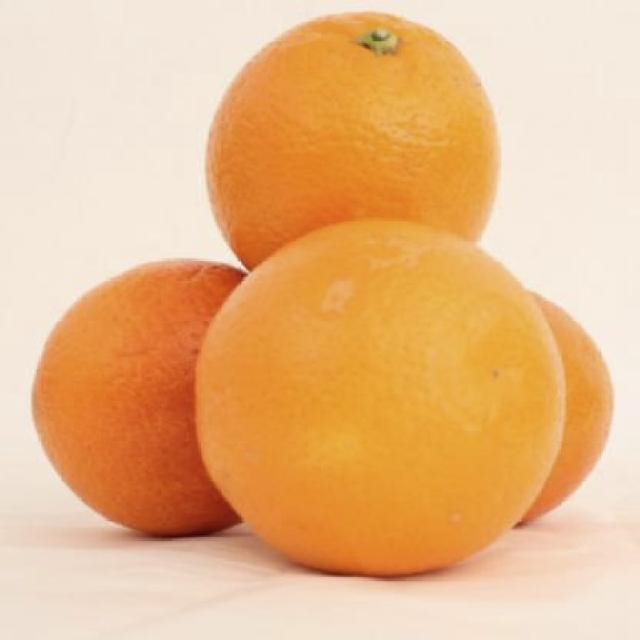Jeruk Sudah Matang: (193, 218, 564, 582), (206, 11, 502, 294), (33, 257, 278, 545), (496, 282, 618, 542)
